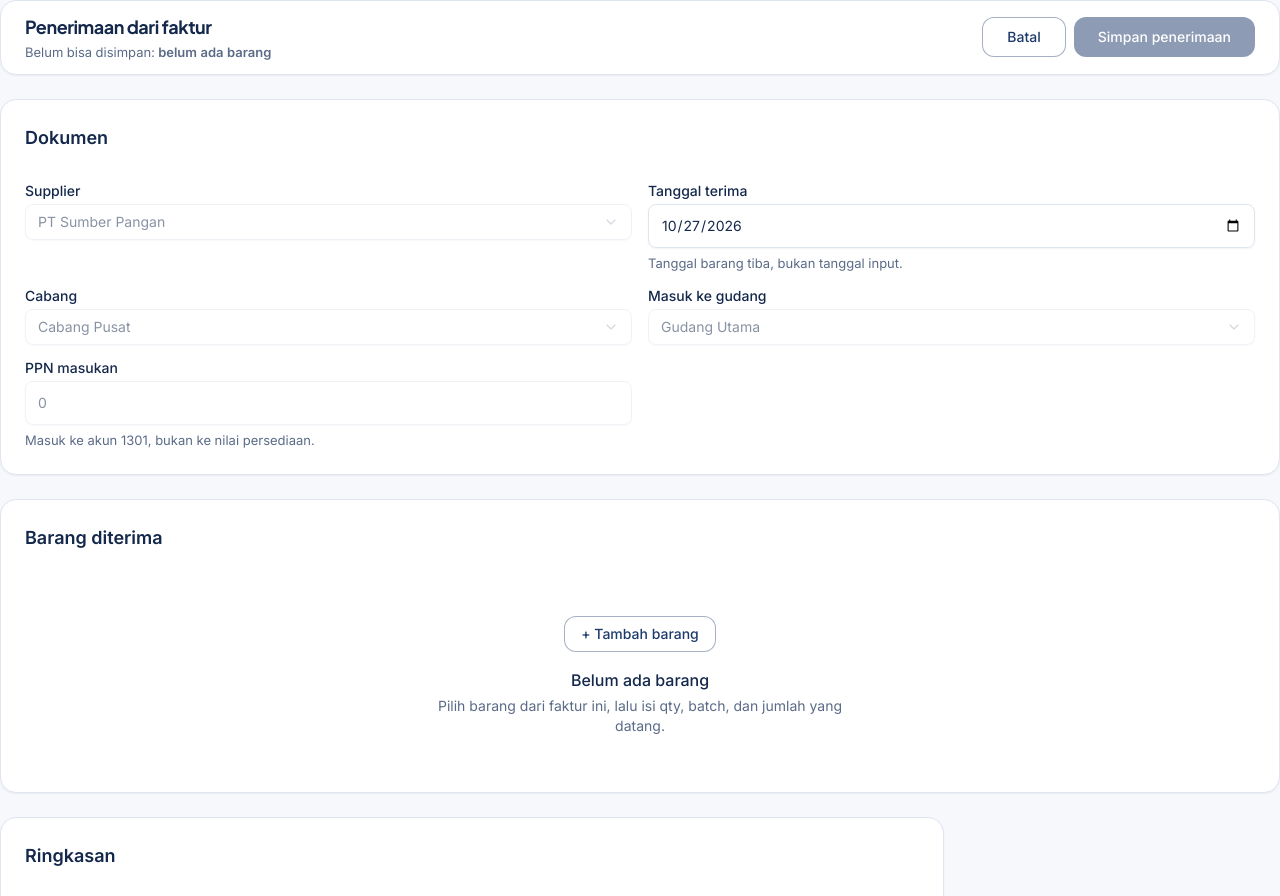
it: ReceiptForm — from a supplier invoice › stops offering a product with no batch once it is on the form
Click the button "+ Tambah barang" at (640, 634), box [564,616,716,652]
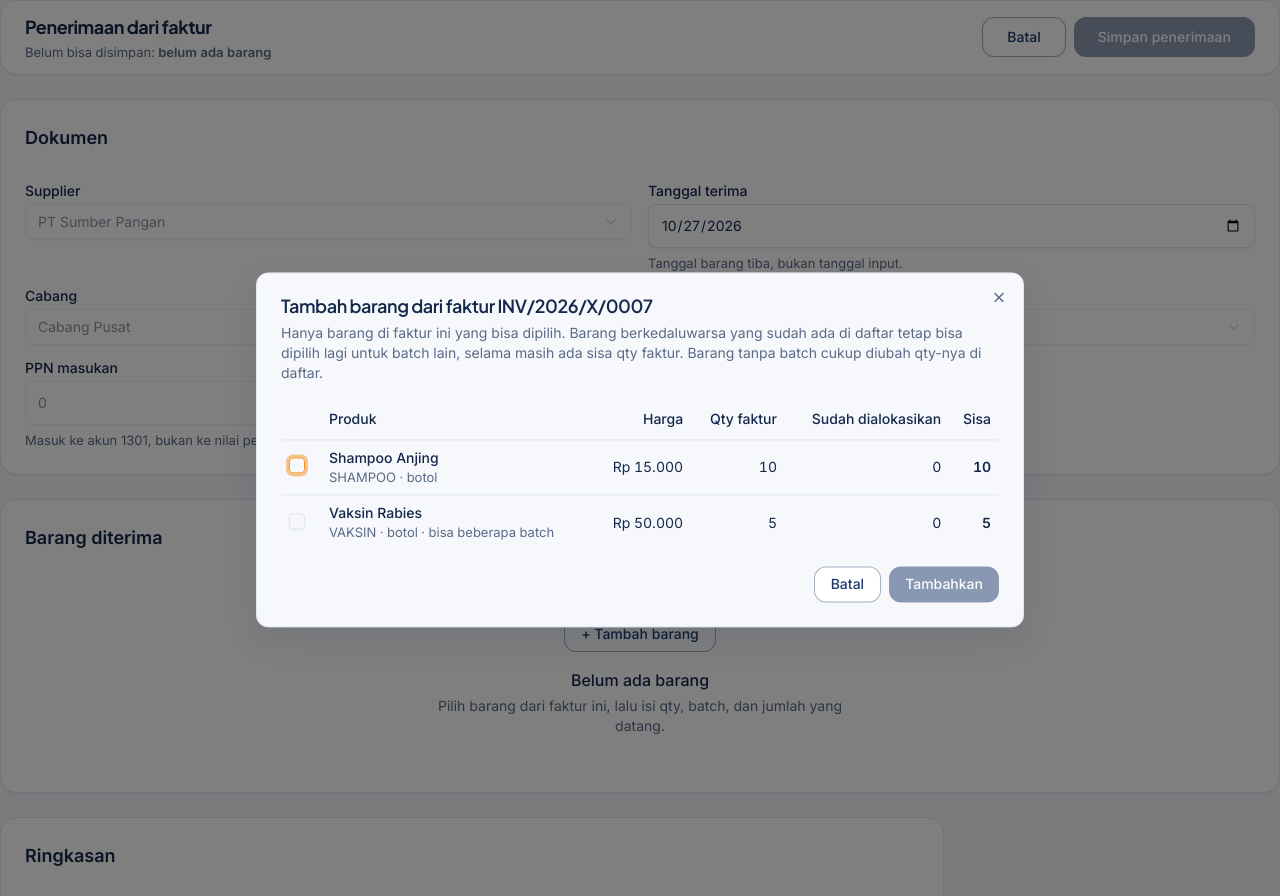
Click the checkbox named "Pilih Shampoo Anjing" at (297, 465), box [289,457,305,473]
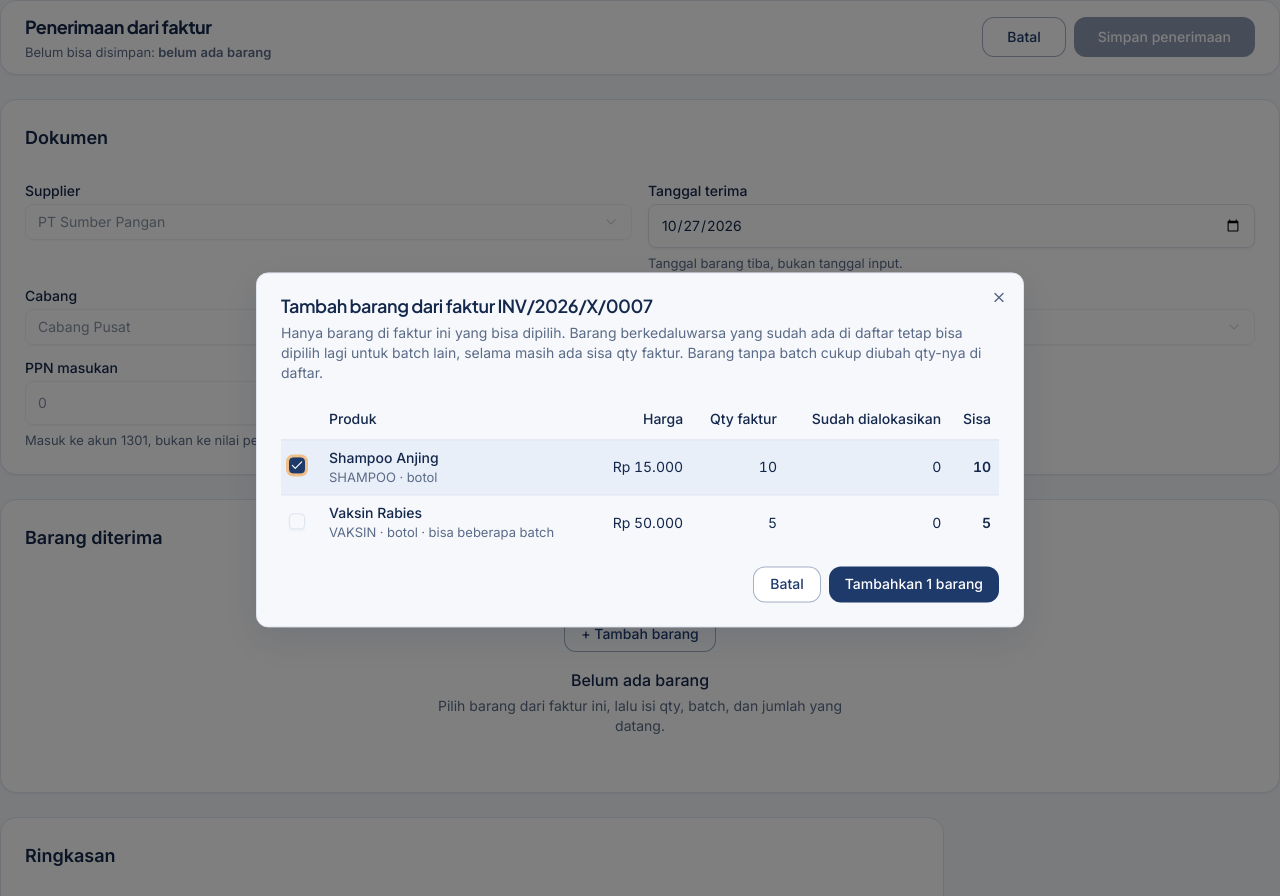
Click the button "Tambahkan 1 barang" at (914, 585), box [829,567,999,603]
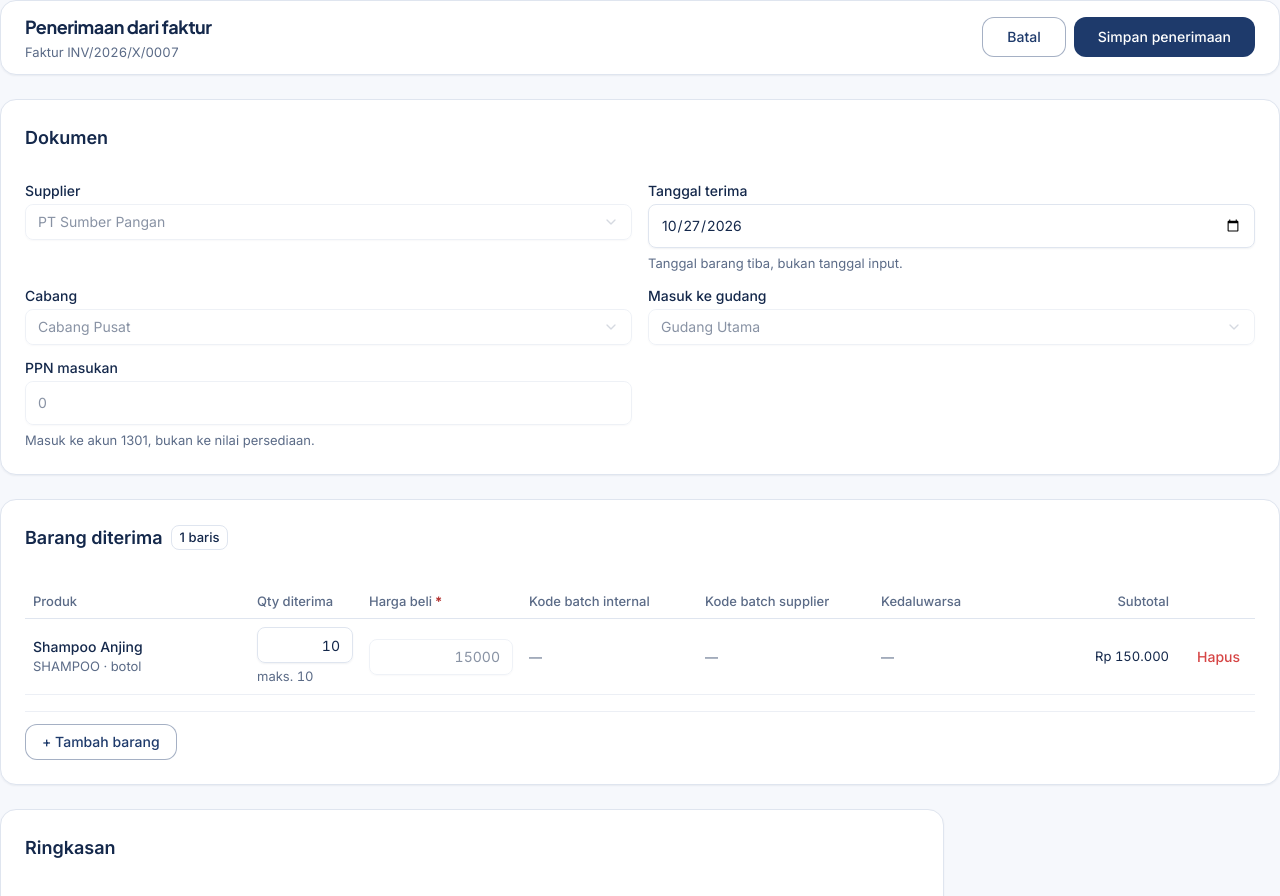
Replace the text in the field named "Qty Shampoo Anjing" with "4" at (305, 645), box [257,627,353,663]
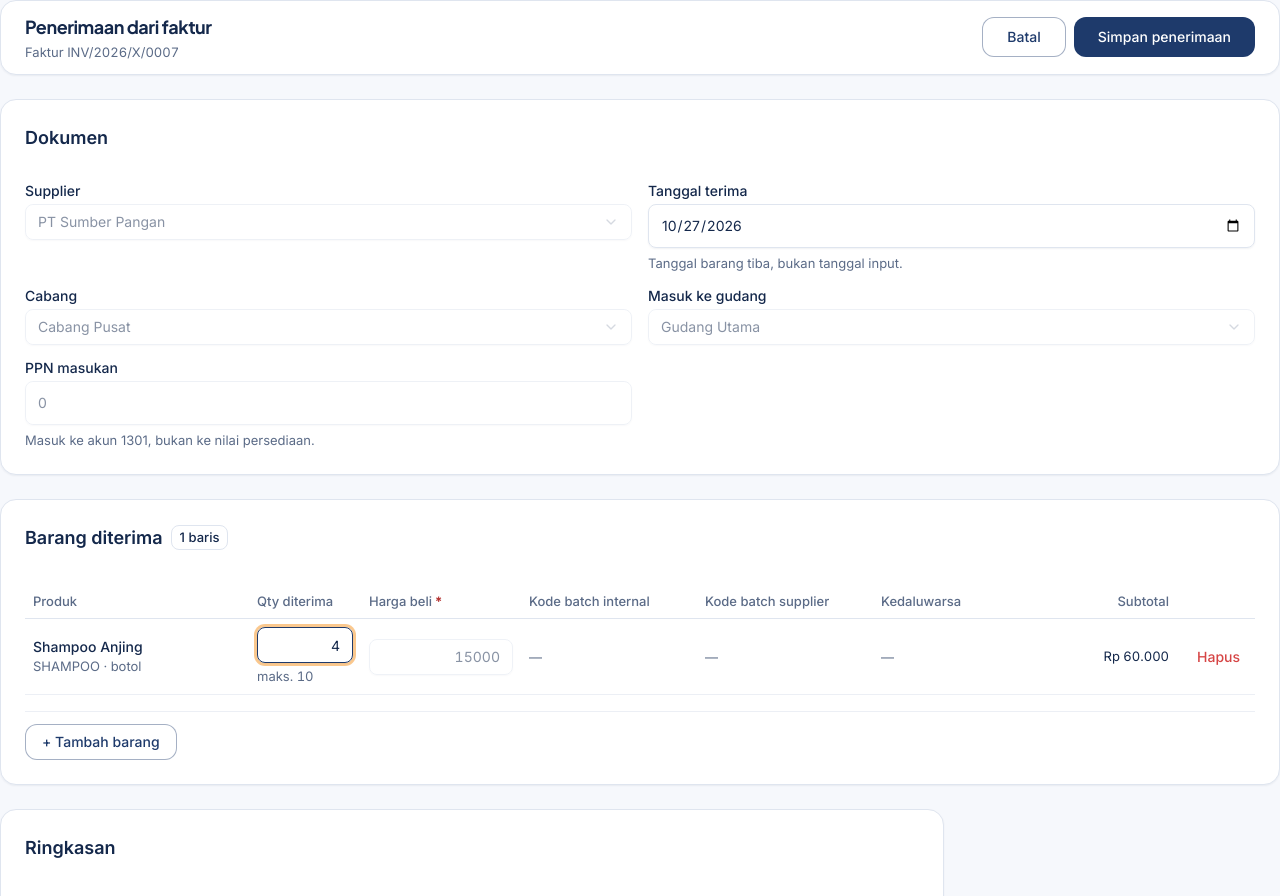
Click the button "+ Tambah barang" at (101, 742), box [25,724,177,760]
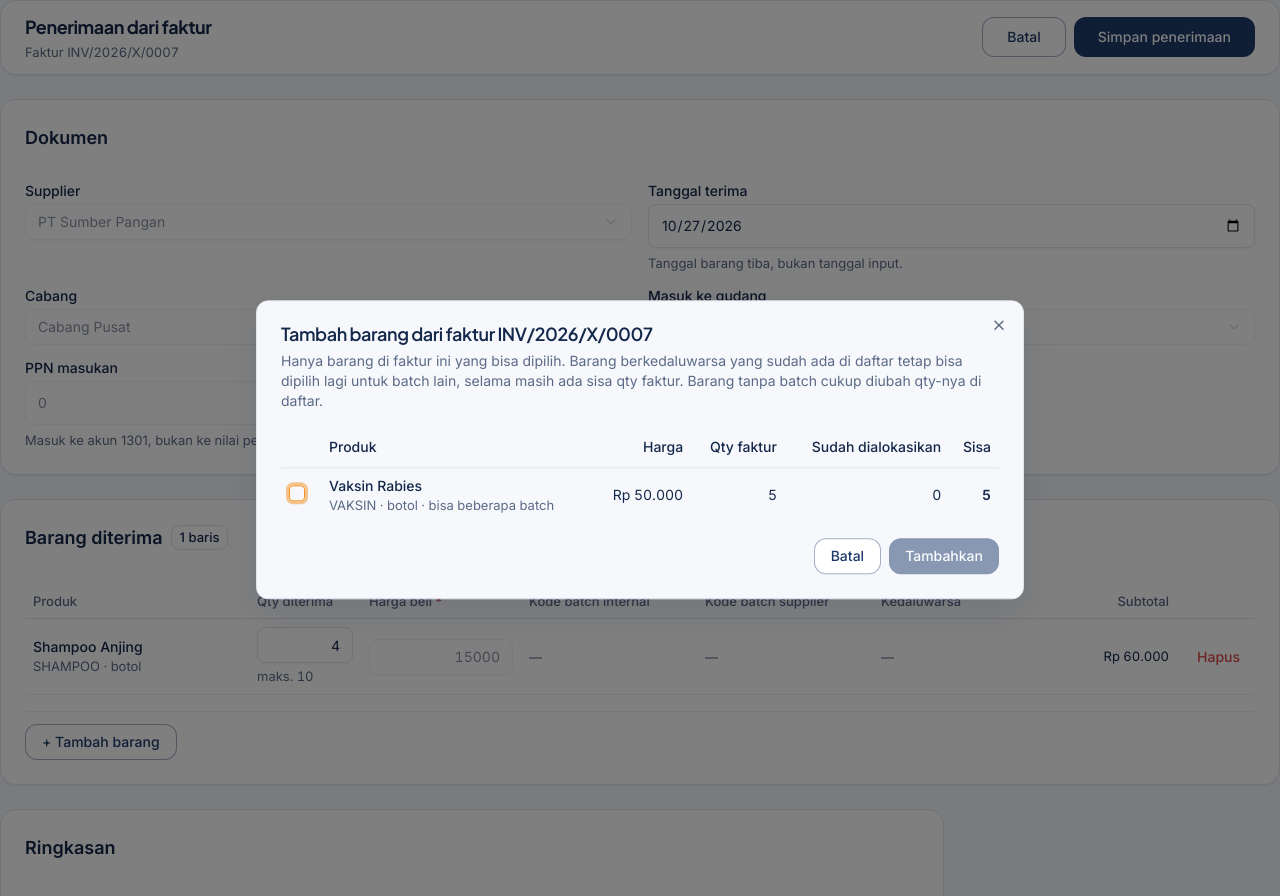
Result: the checkbox named "Pilih Vaksin Rabies" is enabled at [289,485,305,501]
